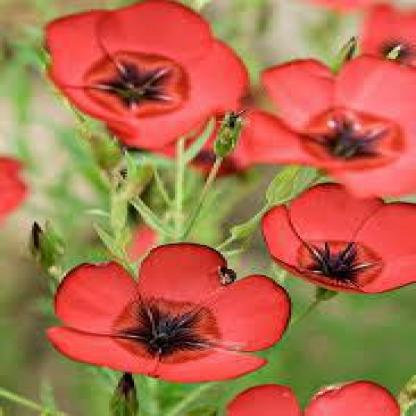other: (28, 13, 410, 176), (45, 238, 281, 377), (246, 180, 412, 290), (214, 376, 408, 410)
